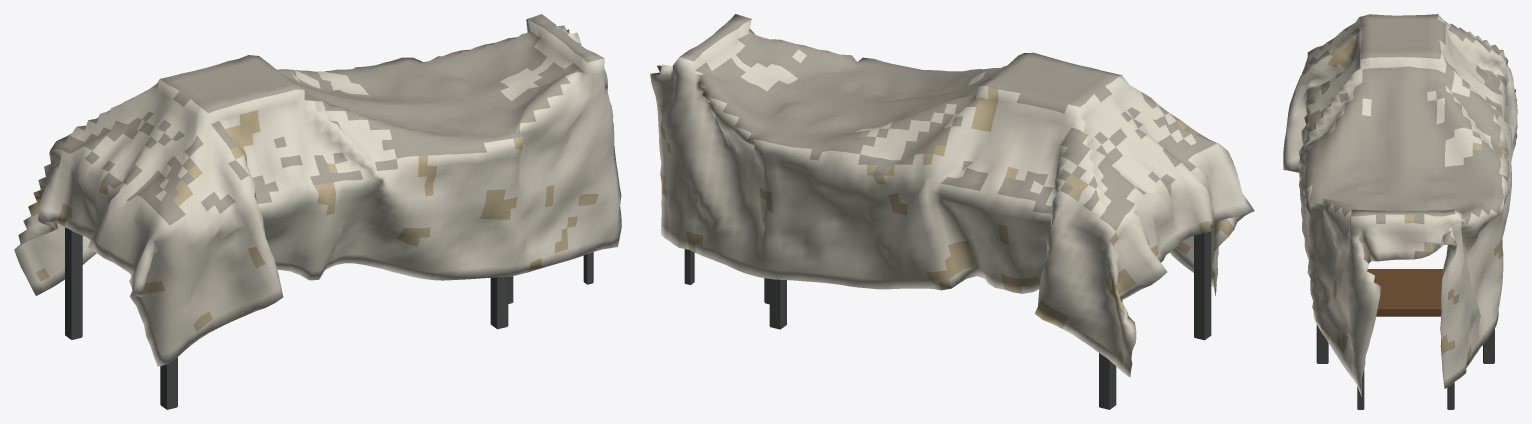
The model's file is canvas_drape_a.glb.
The picture shows the model from 3 angles, left to right: view 1: azimuth 30°, elevation 25°; view 2: azimuth 150°, elevation 25°; view 3: azimuth 270°, elevation 25°; orthographic projection. The views are drawn at different scales.
Visible parts, largest first — view 1: tuch, bein.001, bein.002, bein; view 2: tuch, bein, bein.001, bein.003; view 3: tuch, stuhl_sitz, bein.002, bein.003.
Part boxes in pixels (x1,y1,x2,y2): tuch: [14, 14, 621, 366]; bein.001: [65, 227, 82, 339]; bein.002: [490, 277, 508, 329]; bein: [160, 357, 177, 409]; tuch: [650, 14, 1254, 377]; bein: [1194, 231, 1211, 340]; bein.001: [1099, 353, 1116, 409]; bein.003: [769, 279, 786, 329]; tuch: [1283, 14, 1517, 396]; stuhl_sitz: [1367, 269, 1443, 316]; bein.002: [1316, 324, 1328, 363]; bein.003: [1483, 329, 1494, 363].
Bounding box in the file's own units: 2.23 × 1.08 × 0.988.
